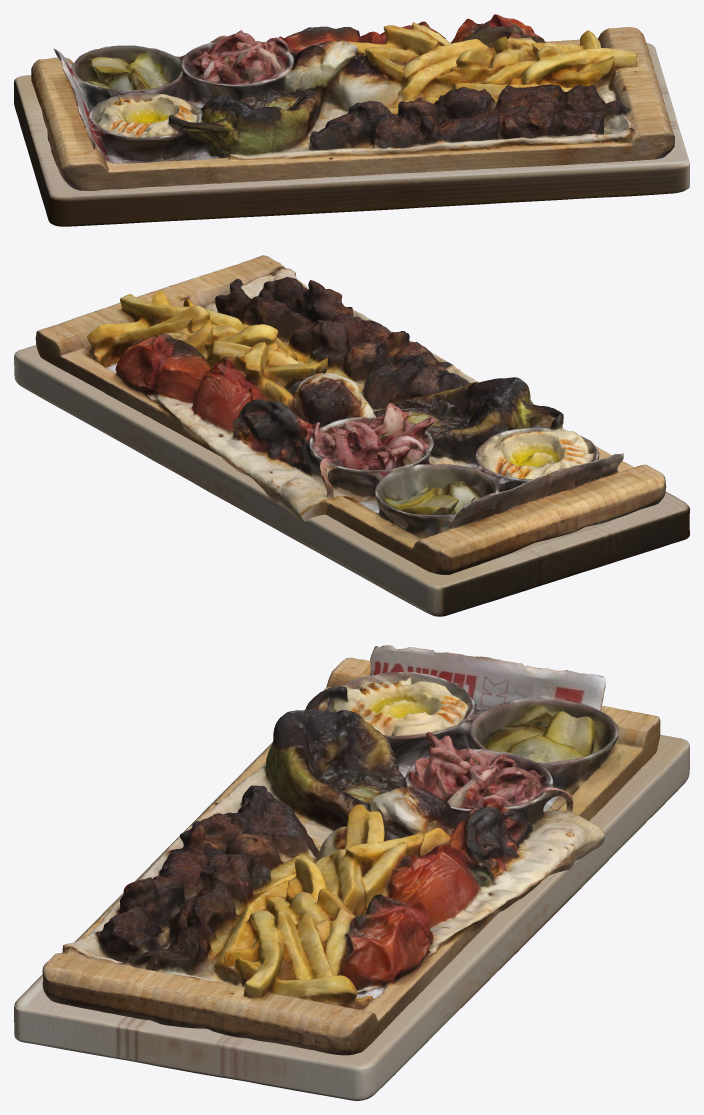
File: Lamb.Tikka.Platter.glb
3 views of the same model, one above another, from view 1: azimuth 30°, elevation 25°; view 2: azimuth 150°, elevation 25°; view 3: azimuth 270°, elevation 25° (orthographic). The views are drawn at different scales.
Parts seen in each view (by area): view 1: /Root/Scenes/Scene/Object_37/Object_38/Submesh_0, /Root/Scenes/Scene/Object_37/Object_41/Object_42/Submesh_0; view 2: /Root/Scenes/Scene/Object_37/Object_38/Submesh_0, /Root/Scenes/Scene/Object_37/Object_41/Object_42/Submesh_0; view 3: /Root/Scenes/Scene/Object_37/Object_38/Submesh_0, /Root/Scenes/Scene/Object_37/Object_41/Object_42/Submesh_0.
Part boxes in pixels (bbox=[...]): /Root/Scenes/Scene/Object_37/Object_38/Submesh_0: bbox=[31, 14, 674, 190]; /Root/Scenes/Scene/Object_37/Object_41/Object_42/Submesh_0: bbox=[14, 43, 689, 226]; /Root/Scenes/Scene/Object_37/Object_38/Submesh_0: bbox=[35, 255, 666, 574]; /Root/Scenes/Scene/Object_37/Object_41/Object_42/Submesh_0: bbox=[14, 345, 689, 616]; /Root/Scenes/Scene/Object_37/Object_38/Submesh_0: bbox=[42, 645, 660, 1055]; /Root/Scenes/Scene/Object_37/Object_41/Object_42/Submesh_0: bbox=[14, 709, 689, 1100].
Size of the model in its own units: 0.3928 by 0.0565 by 0.2879.
3 materials, 2 textured.
